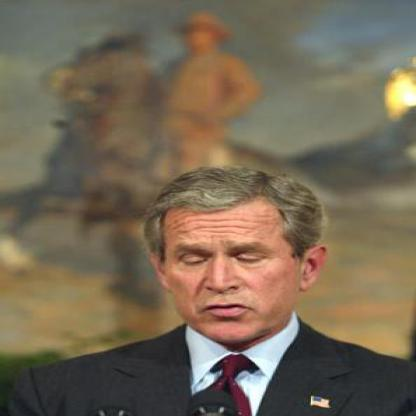face: (157, 178, 304, 346)
